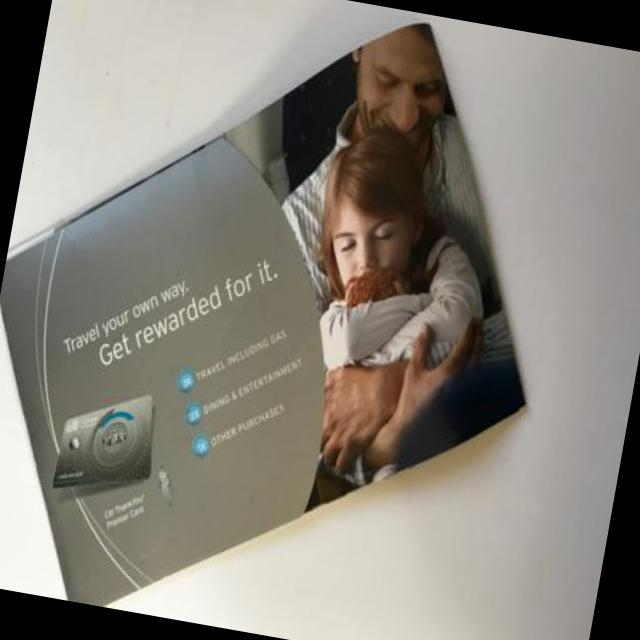paper: (0, 20, 557, 616)
